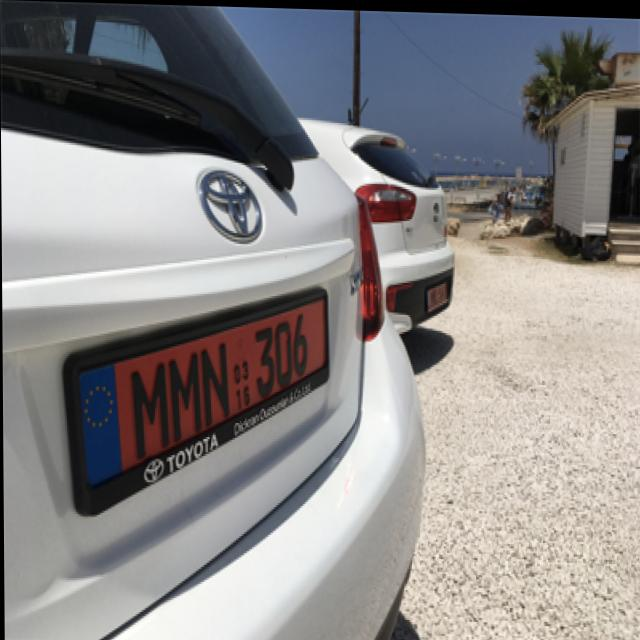licence: (67, 279, 325, 524)
